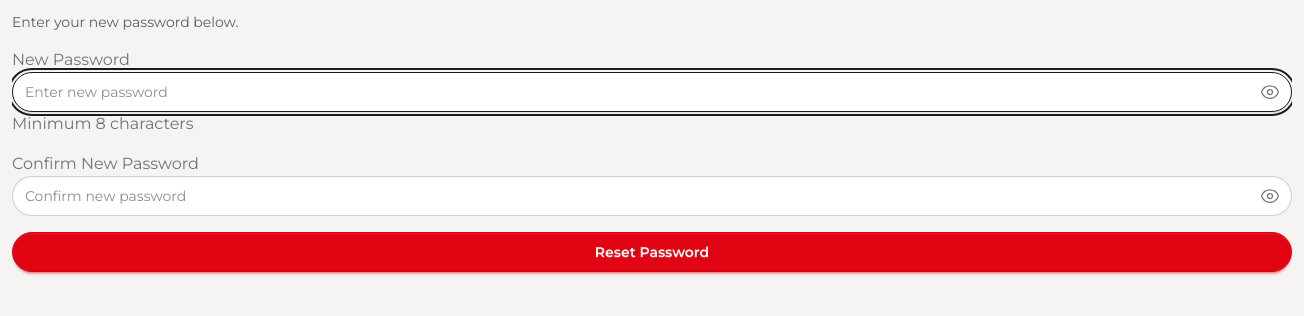
Test: ResetPasswordForm › should show validation error for mismatched passwords
Type "newpassword123" into the password field with placeholder "Enter new password". click: [652, 92]
box: top-left (12, 72), bottom-right (1292, 112)
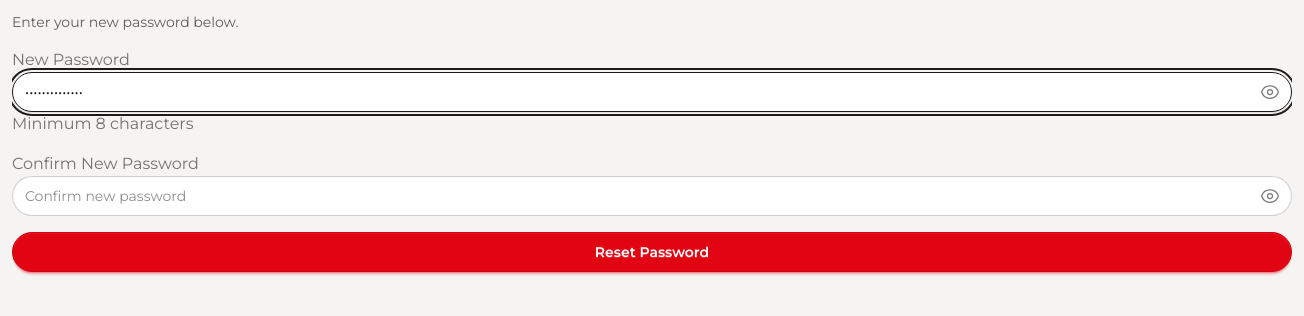
Type "differentpassword" into the password field with placeholder "Confirm New Password". click: [652, 196]
box: top-left (12, 176), bottom-right (1292, 216)
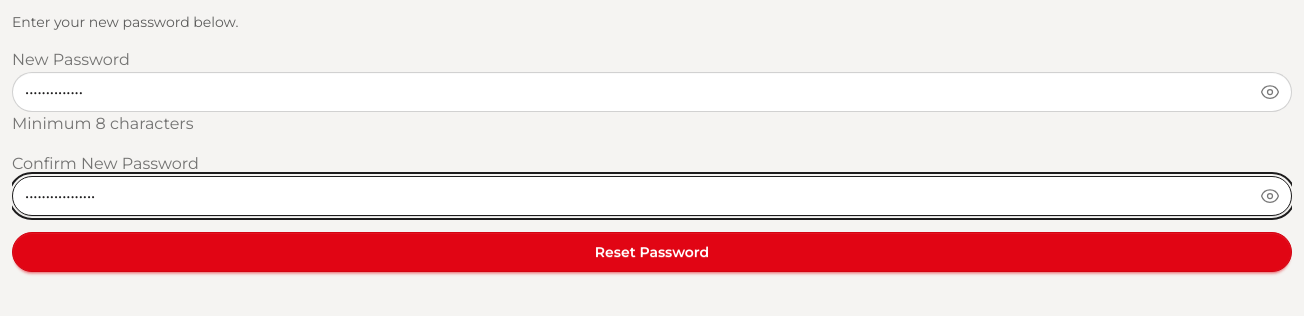
Click the button "Reset Password". click: [652, 252]
box: top-left (12, 232), bottom-right (1292, 272)
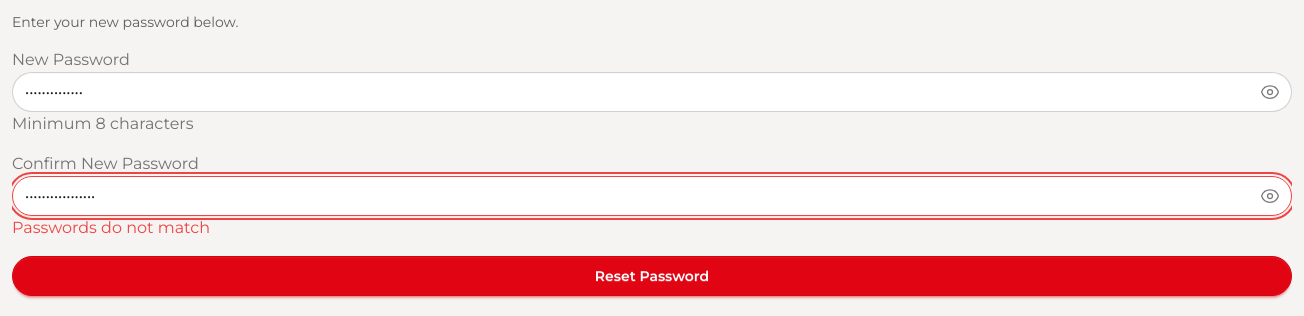
Check: the text "Passwords do not match" is shown, box top-left (12, 216), bottom-right (210, 240)
